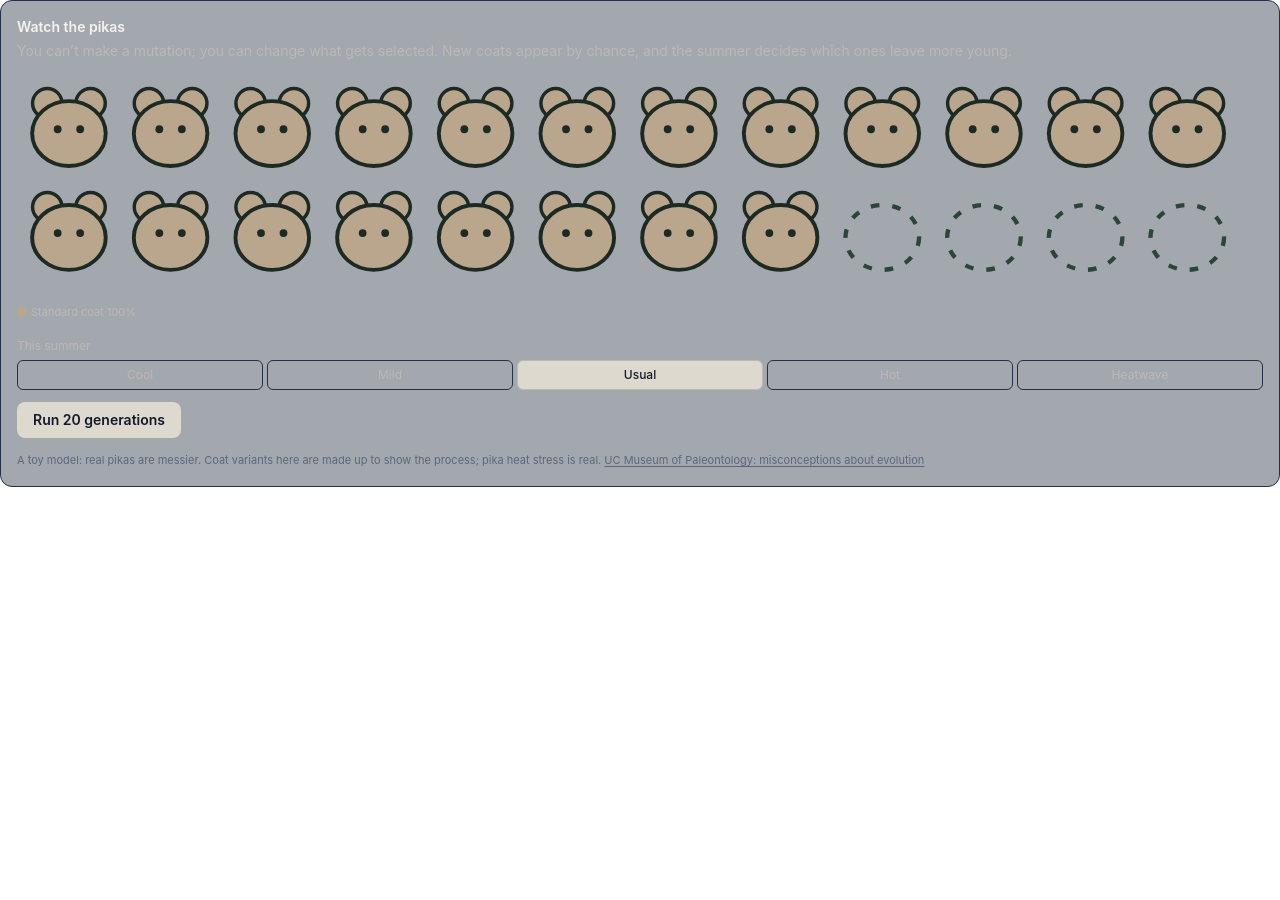
Test: AlpinePlay › sets the summer, runs twenty generations, and captions the change
Click the radio button labelled "Heatwave": (1140,375) [1017, 360, 1263, 390]
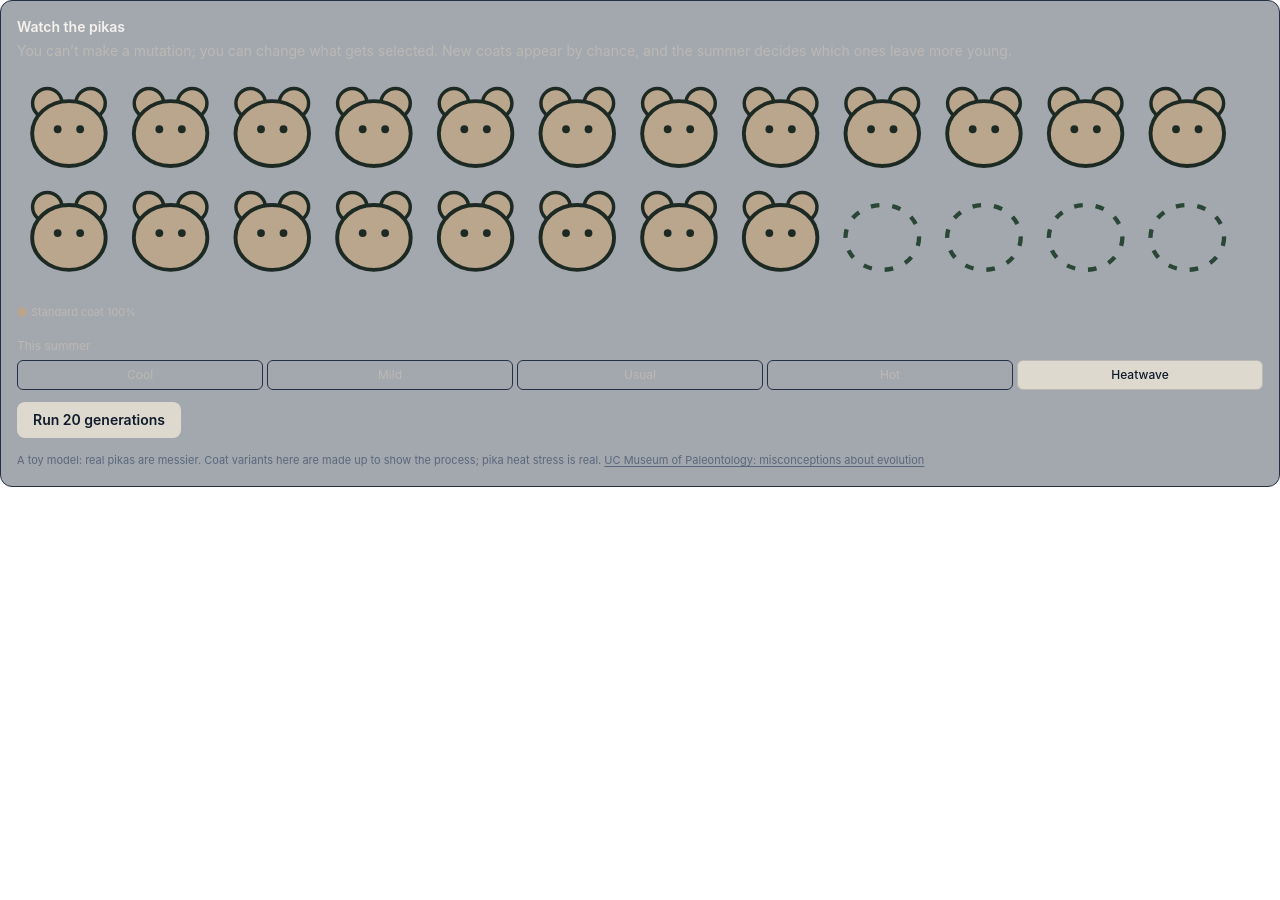
Click the button "Run 20 generations": (99,420) [17, 402, 181, 438]
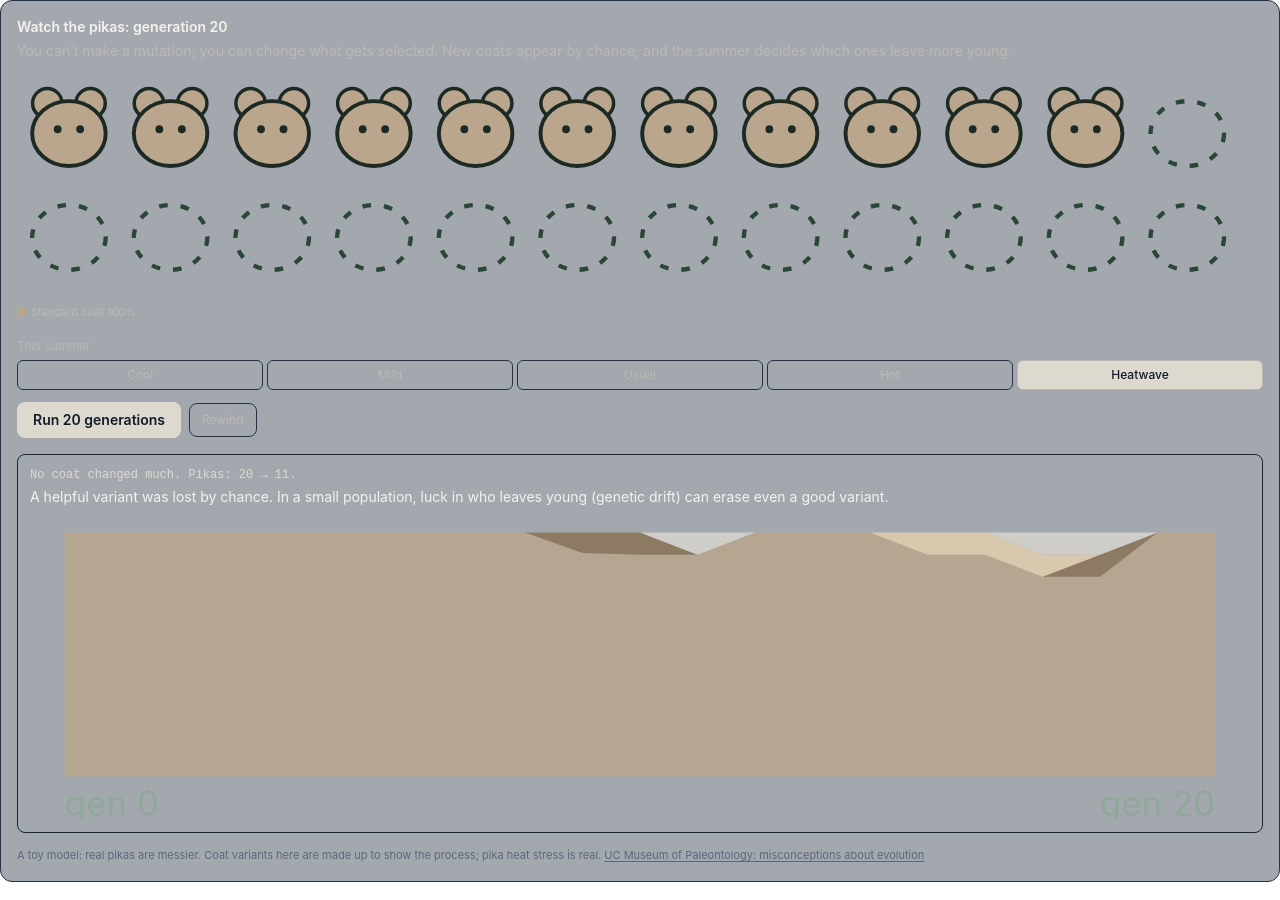
Check: the text "No coat changed much. Pikas: 20 → 11." is shown, box [30, 468, 296, 482]
Check: the picture named "share of the pikas" is shown, box [30, 515, 1250, 820]
Click the button "Rewind": (223,420) [189, 403, 256, 437]
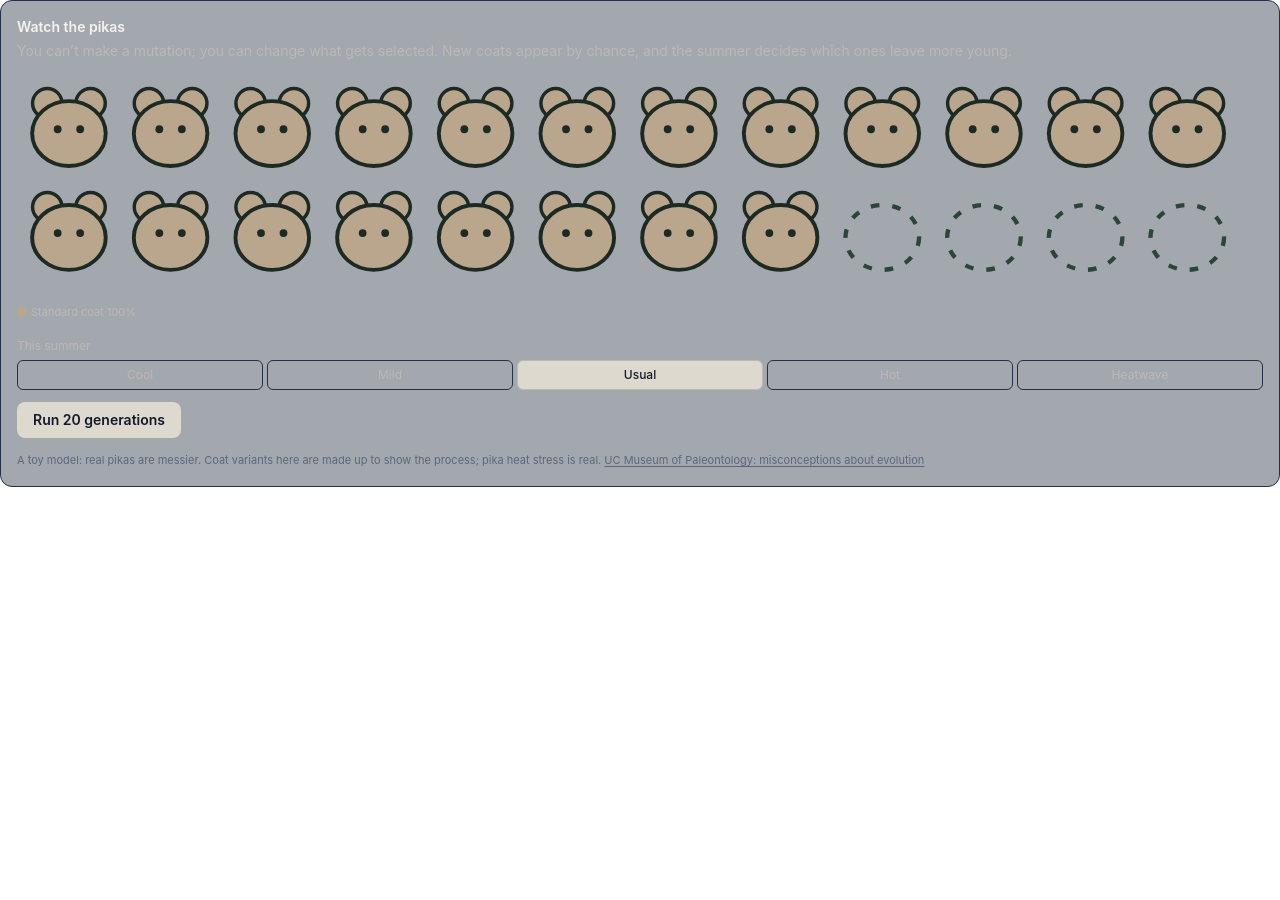
Check: the text "Pikas: 20 →" is gone
